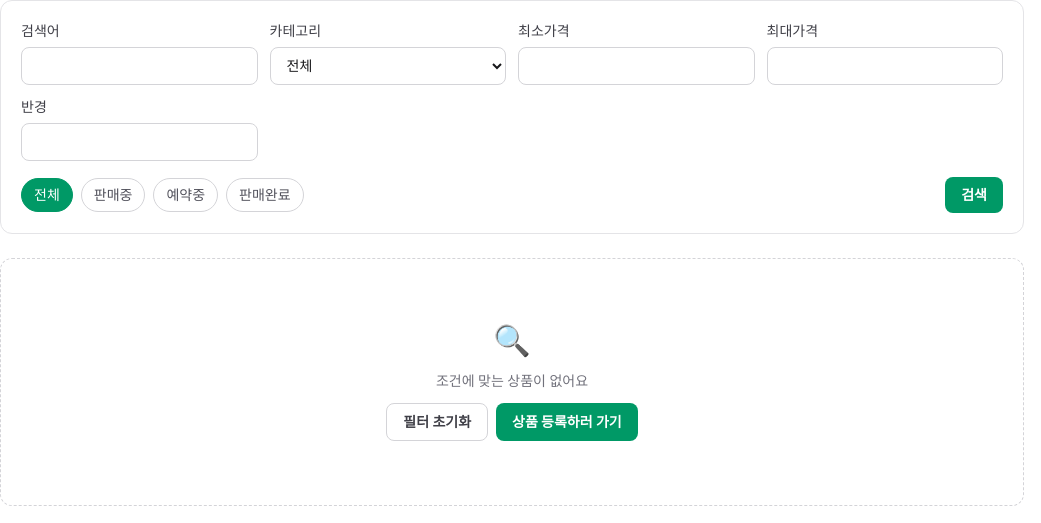
it: ProductList › shows an empty state with a reset-filters action when the search returns no results
This screenshot has width=1041, height=523.
Check: the text "조건에 맞는 상품이 없어요" is shown, box [436, 371, 588, 391]
Type "아이폰" into the field labelled "검색어". click: point(139, 66)
box: [21, 47, 258, 85]
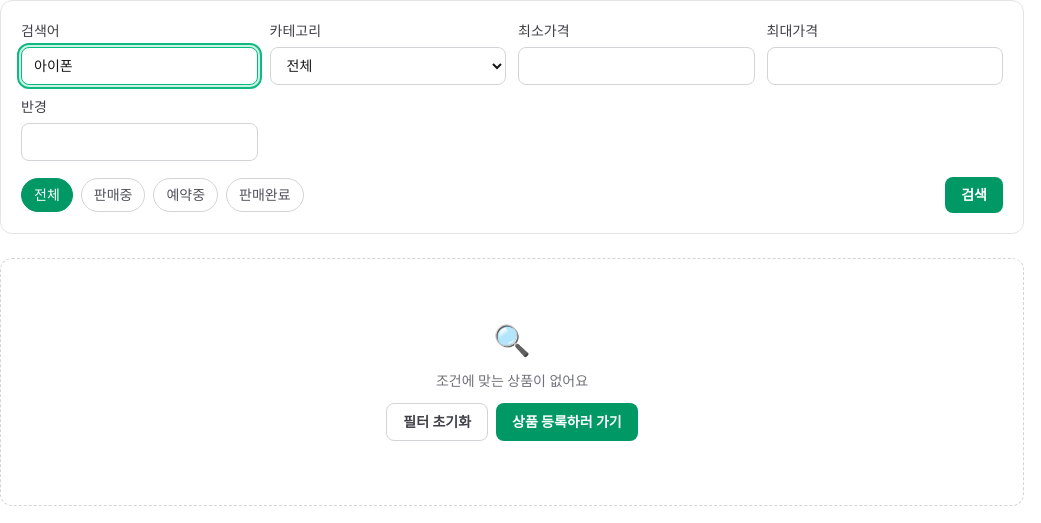
Click the button "필터 초기화". click: point(437, 422)
box: [386, 403, 488, 441]
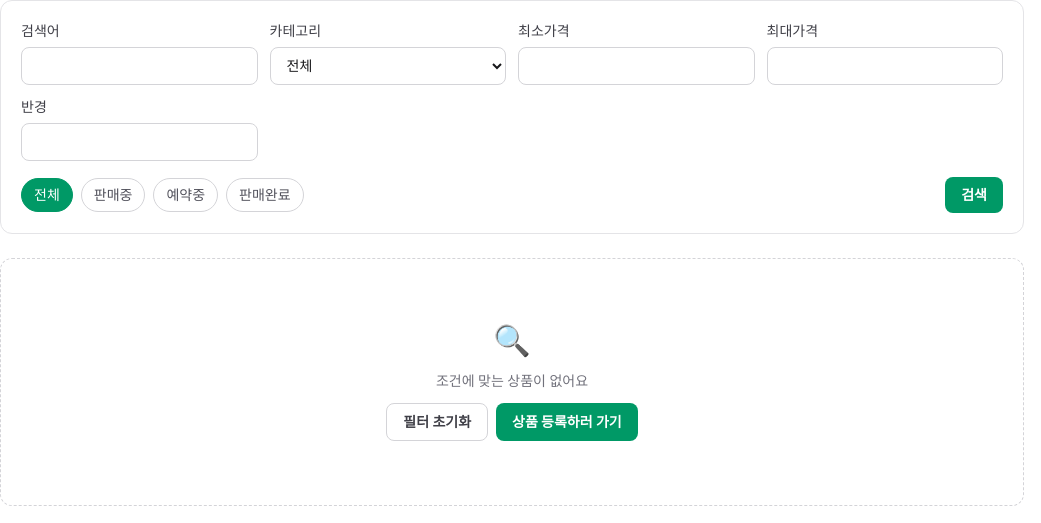
Check: the field labelled "검색어" is empty, box [21, 47, 258, 85]
